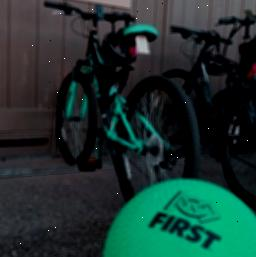algae: (102, 176, 256, 257)
